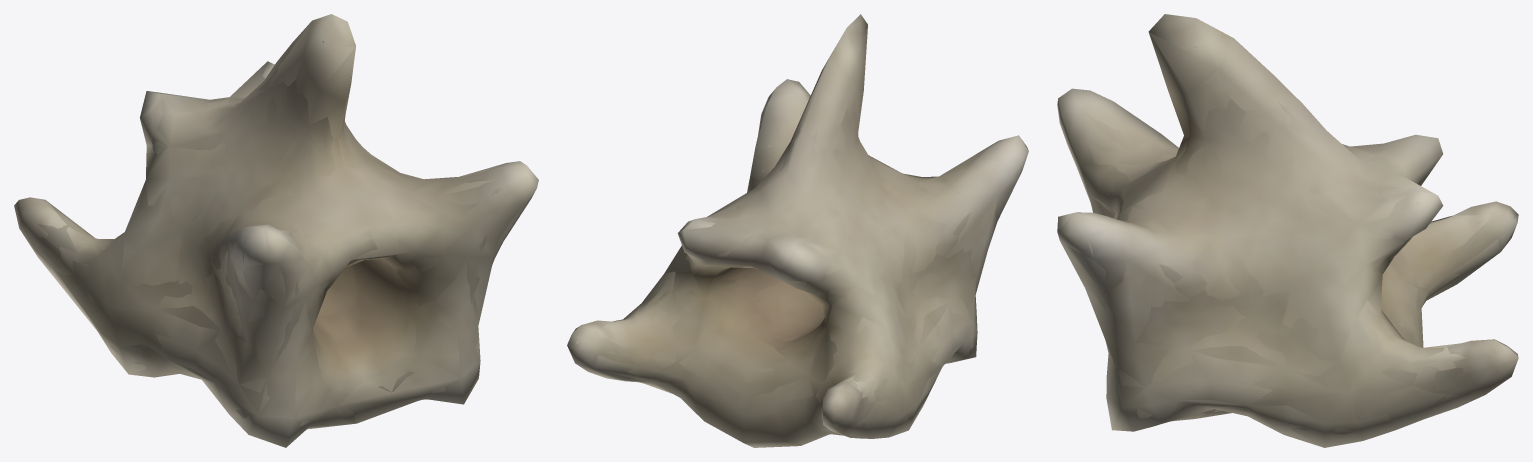
Rendered from vertebrae thoracicae 13.fbx.
3 renders of one model, left to right at view 1: azimuth 30°, elevation 25°; view 2: azimuth 150°, elevation 25°; view 3: azimuth 270°, elevation 25°, orthographic. The views are drawn at different scales.
Parts seen in each view (by area): view 1: vertebrae thoracicae 13, vertebrae thoracicae 13 low, vertebrae thoracicae 13 high; view 2: vertebrae thoracicae 13, vertebrae thoracicae 13 low, vertebrae thoracicae 13 high; view 3: vertebrae thoracicae 13, vertebrae thoracicae 13 low, vertebrae thoracicae 13 high.
Boxes of the visible parts, <box> form: vertebrae thoracicae 13: <box>14,14,538,447</box>; vertebrae thoracicae 13 low: <box>14,14,536,444</box>; vertebrae thoracicae 13 high: <box>41,41,501,426</box>; vertebrae thoracicae 13: <box>567,14,1028,447</box>; vertebrae thoracicae 13 low: <box>568,26,1026,447</box>; vertebrae thoracicae 13 high: <box>576,51,1018,438</box>; vertebrae thoracicae 13: <box>1057,14,1518,447</box>; vertebrae thoracicae 13 low: <box>1057,18,1517,447</box>; vertebrae thoracicae 13 high: <box>1064,46,1513,434</box>.
Size of the model in its own units: 1.12 by 1.37 by 1.46.
1 material, 1 textured.
